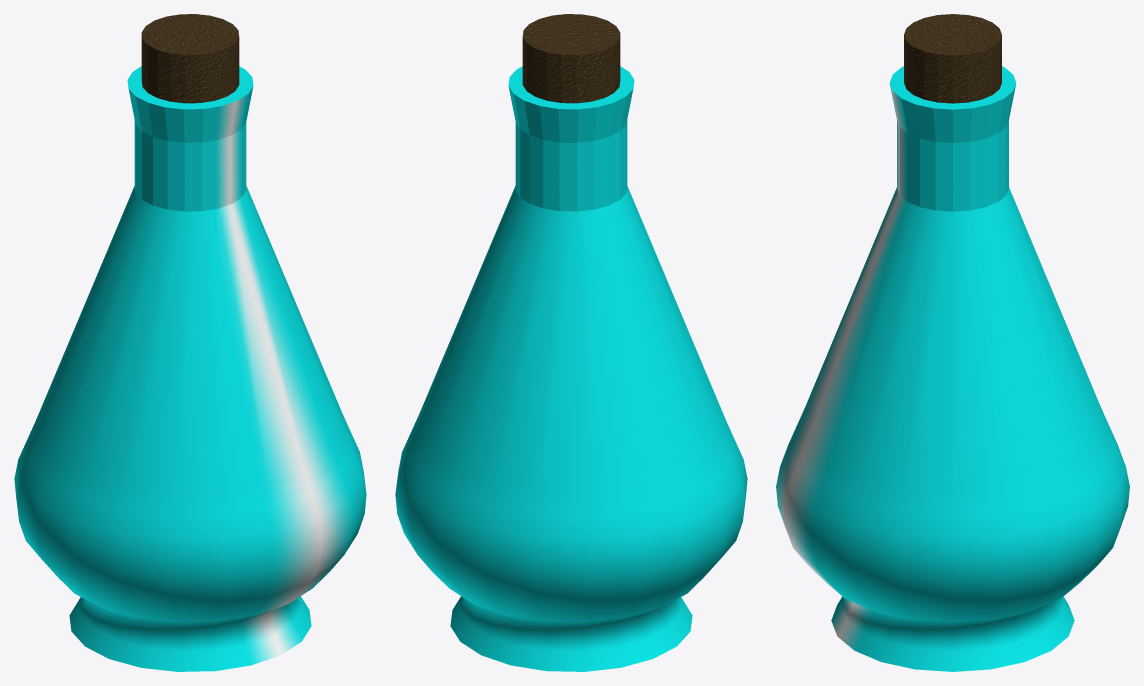
File: healthPU.fbx
3 renders of one model, left to right at view 1: azimuth 30°, elevation 25°; view 2: azimuth 150°, elevation 25°; view 3: azimuth 270°, elevation 25°, orthographic.
Visible parts, largest first — view 1: pCylinder1; view 2: pCylinder1; view 3: pCylinder1.
Boxes of the visible parts, x1,y1,x2,y2 form: pCylinder1: [14, 14, 366, 671]; pCylinder1: [395, 14, 747, 671]; pCylinder1: [776, 14, 1129, 671].
Bounding box in the file's own units: 1.48 × 2.71 × 1.48.
1 material, 1 textured.
